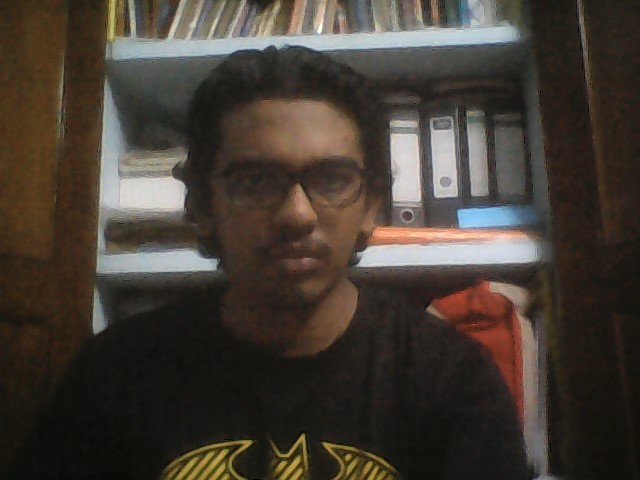person: (55, 46, 507, 462)
